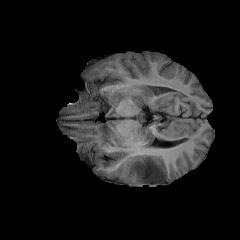glioma: (128, 155, 170, 183)
